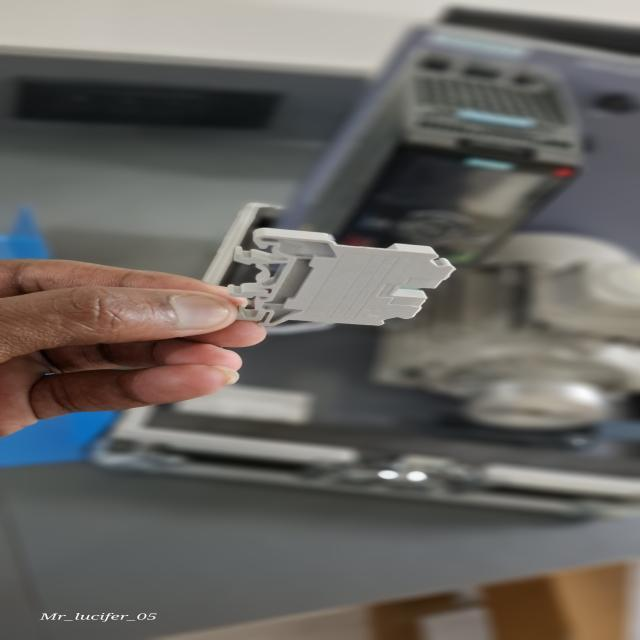Inverted: (218, 220, 466, 326)
